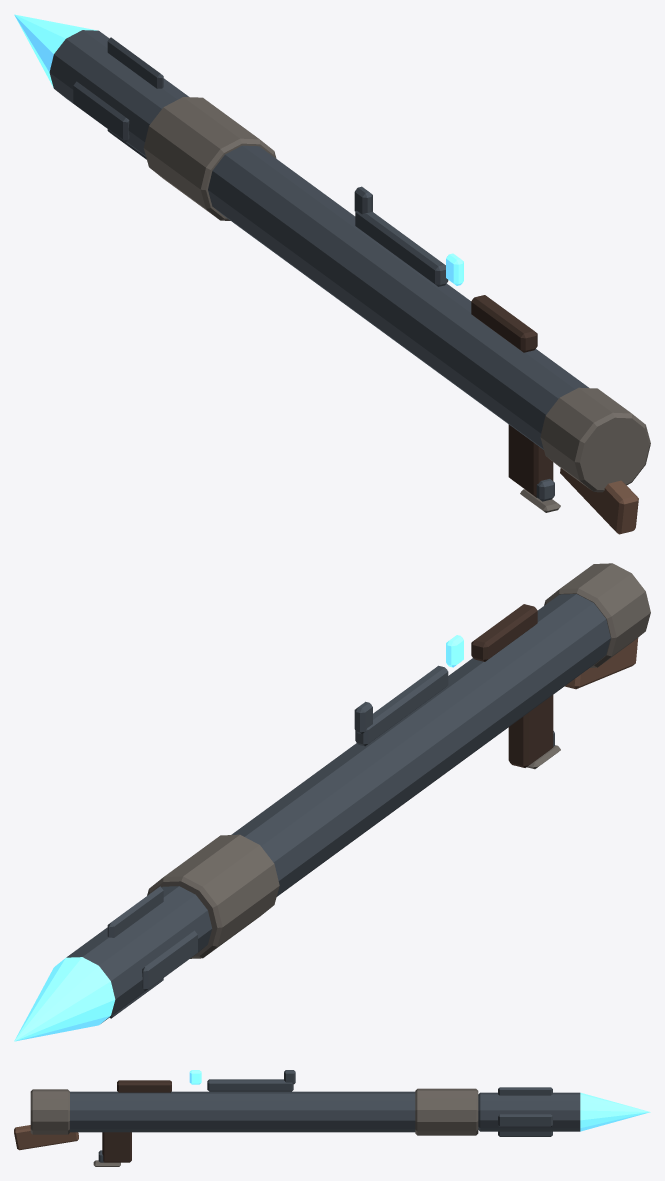
File: mdl_weapon_rpg_v1.glb
The picture shows the model from 3 angles, top to bottom: view 1: azimuth 30°, elevation 25°; view 2: azimuth 150°, elevation 25°; view 3: azimuth 270°, elevation 25°; orthographic projection. The views are drawn at different scales.
Visible parts, largest first — view 1: GEO_Weapon_RPG; view 2: GEO_Weapon_RPG; view 3: GEO_Weapon_RPG.
Part boxes in pixels (box(x1,y1,x2,y2)): GEO_Weapon_RPG: box(14, 14, 650, 534); GEO_Weapon_RPG: box(14, 563, 650, 1041); GEO_Weapon_RPG: box(14, 1070, 650, 1166).
Bounding box in the file's own units: 0.12 × 0.267 × 1.62.
